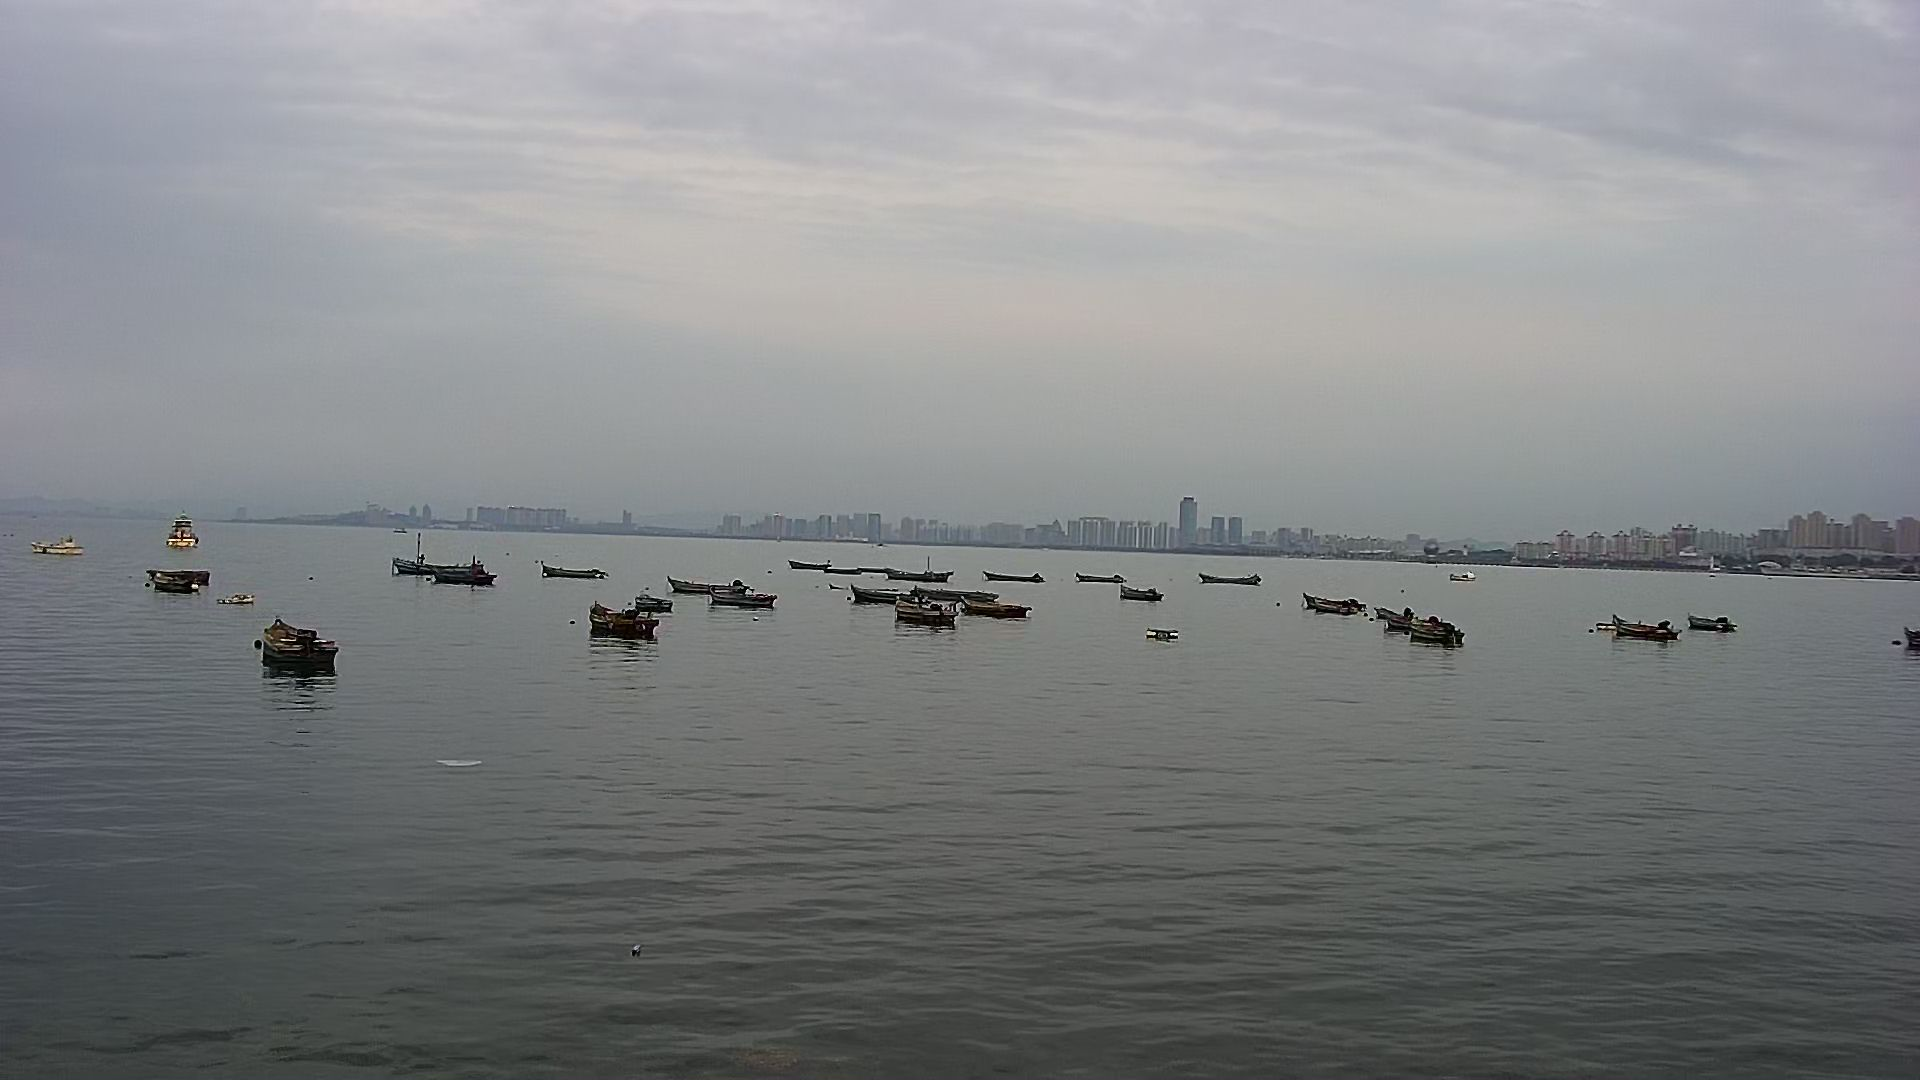boat: (255, 622, 340, 694), (1374, 599, 1466, 659), (1596, 603, 1675, 665), (1299, 574, 1374, 632), (949, 588, 1040, 628), (893, 601, 959, 654), (375, 550, 473, 582), (1189, 566, 1270, 603), (1677, 599, 1741, 644), (587, 615, 659, 650), (42, 531, 94, 580), (531, 556, 609, 588), (889, 555, 956, 591), (666, 568, 744, 597), (851, 582, 918, 615), (713, 588, 775, 622), (152, 562, 211, 596), (825, 555, 889, 582), (988, 563, 1051, 589), (779, 542, 828, 574), (434, 570, 495, 591), (1114, 579, 1170, 601), (1077, 563, 1122, 589)
platform: (152, 501, 218, 549)
rubbish: (1145, 625, 1204, 655)
